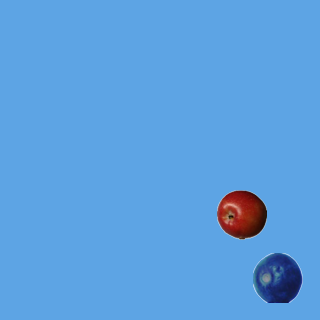Apple Braeburn: (216, 189, 266, 239)
Huckleberry: (252, 252, 302, 302)
